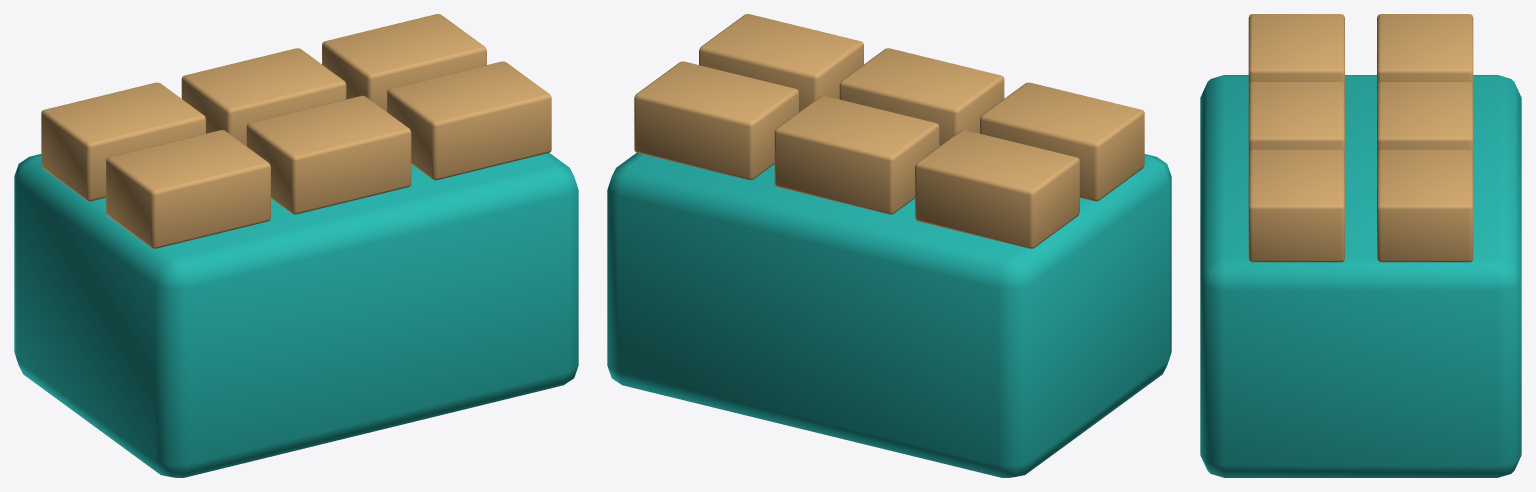
Rendered from lunch_crate.gltf.
The picture shows the model from 3 angles, left to right: view 1: azimuth 30°, elevation 25°; view 2: azimuth 150°, elevation 25°; view 3: azimuth 270°, elevation 25°; orthographic projection.
Parts seen in each view (by area): view 1: lunch_crate_mesh; view 2: lunch_crate_mesh; view 3: lunch_crate_mesh.
Part boxes in pixels (<box>): lunch_crate_mesh: <box>14,14,578,477</box>; lunch_crate_mesh: <box>607,14,1171,477</box>; lunch_crate_mesh: <box>1200,14,1521,477</box>.
Bounding box in the file's own units: 0.6 × 0.38 × 0.4.
